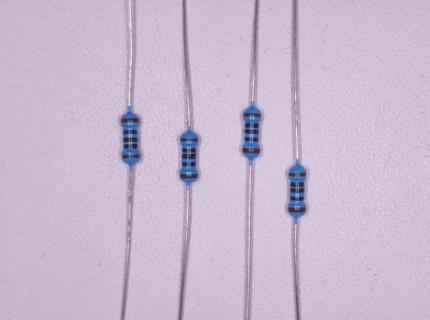Black band: (290, 182, 304, 187), (290, 188, 304, 193), (245, 129, 259, 134), (245, 123, 259, 128), (182, 154, 196, 159), (182, 162, 196, 167), (124, 144, 138, 149), (124, 137, 138, 142), (123, 130, 138, 134), (290, 197, 304, 201), (182, 148, 196, 152), (245, 137, 258, 141)
Brown band: (242, 148, 260, 154), (288, 206, 306, 212), (121, 118, 139, 123), (180, 174, 198, 179), (289, 172, 307, 177), (122, 154, 141, 158), (180, 138, 199, 142), (243, 113, 261, 117)
